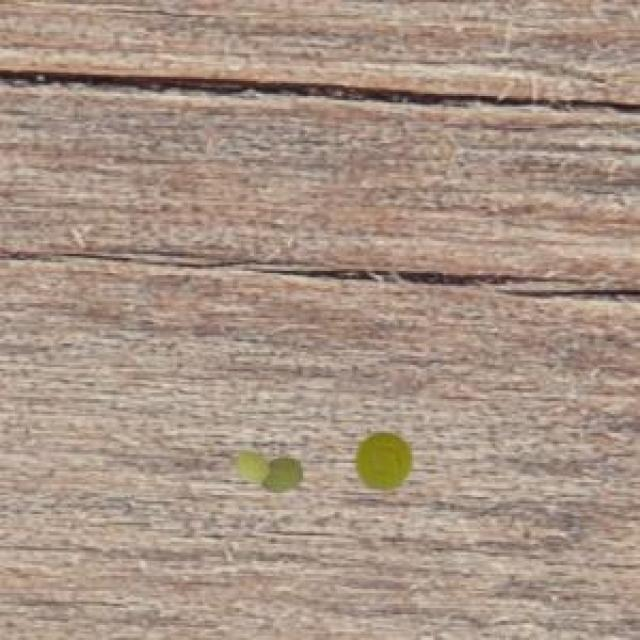Decolgen: (219, 442, 310, 504), (346, 428, 418, 498)
